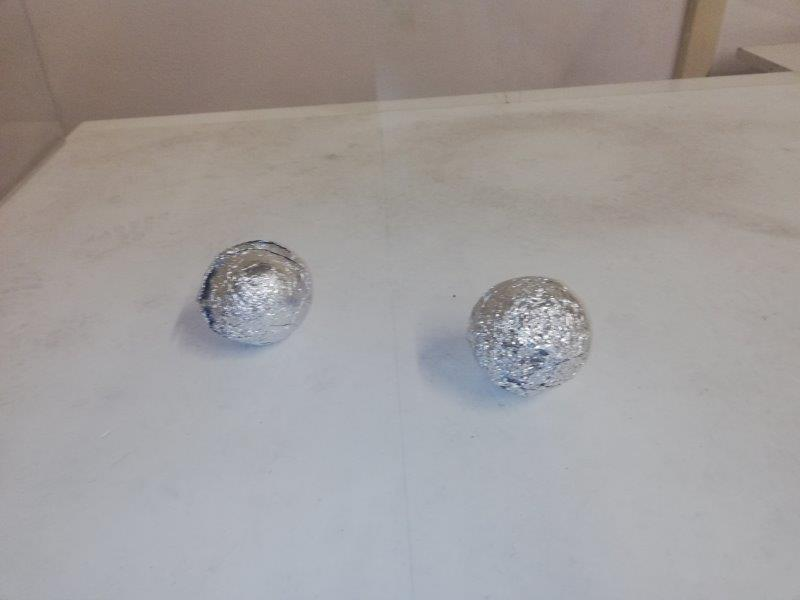bianca: (467, 276, 593, 397), (197, 239, 312, 347)
